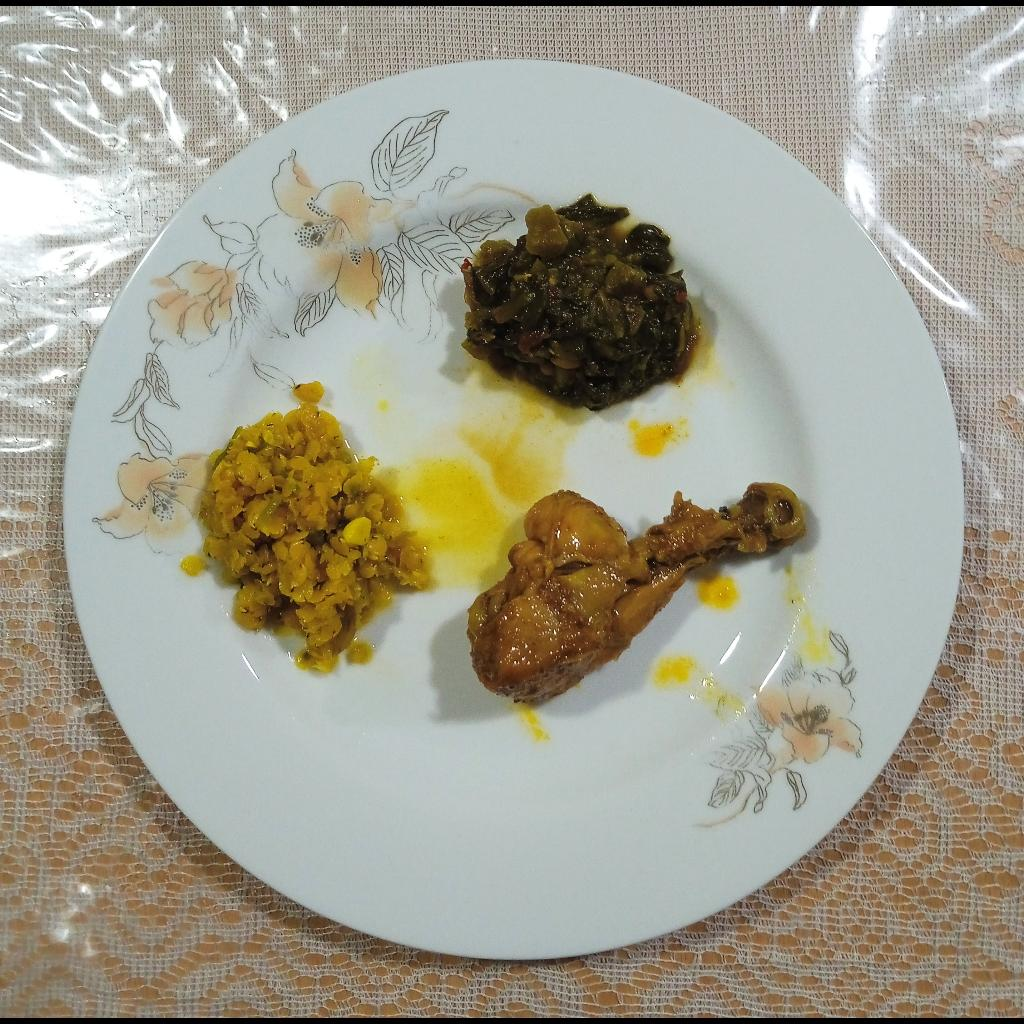chicken: (463, 480, 808, 710)
daal: (197, 378, 430, 674)
shak: (458, 194, 701, 411)
